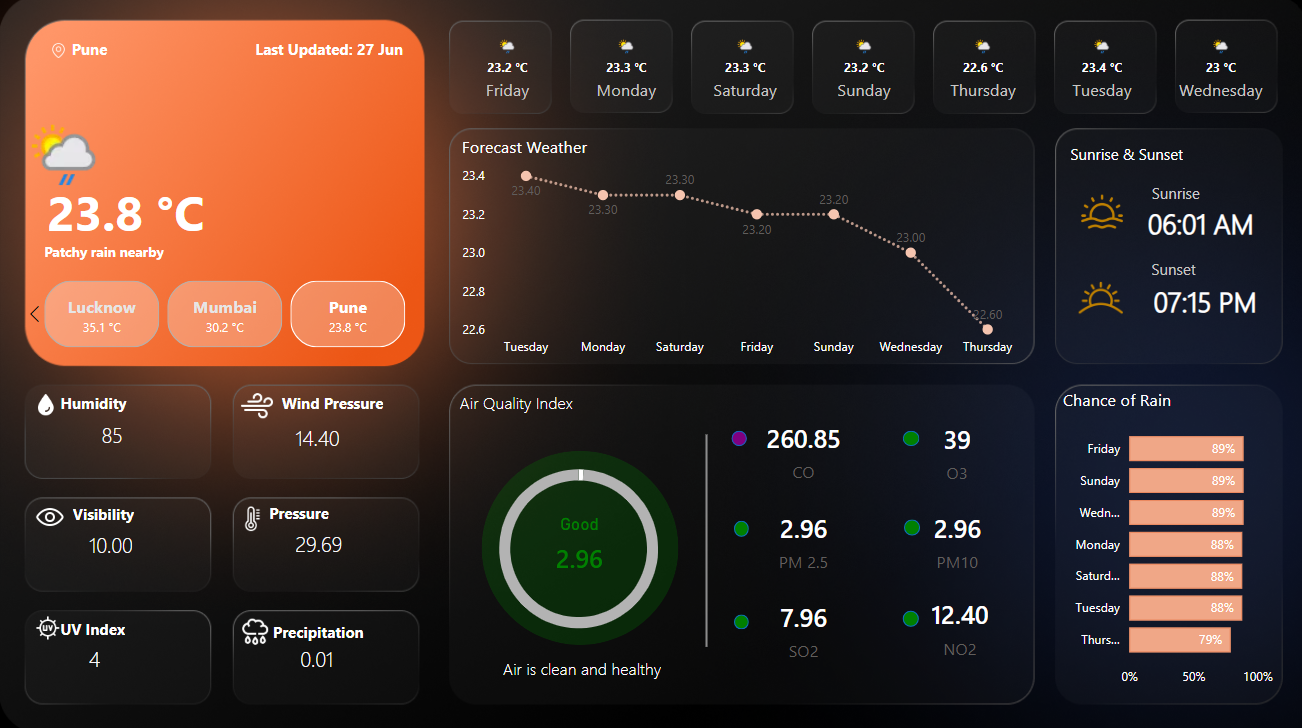

The dashboard page shown, as its layout file describes it:
{"tool":"powerbi","page":{"name":"Page 1","canvas":[1280,720],"ordinal":0},"visuals":[{"type":"shape","box":[470.4,443.1,192.2,189.5],"z":0},{"type":"advancedSlicerVisual","fields":{"Values":["Locations.location.name"]},"box":[19.2,271.7,403.4,75.5],"z":1000},{"type":"shape","box":[41,171.3,219.6,77.2],"z":2000},{"type":"shape","box":[41,229.2,219.6,37.4],"z":3000},{"type":"shape","box":[68.8,32.6,109.8,36.2],"z":4000},{"type":"shape","box":[247.3,32.6,219.6,36.2],"z":5000},{"type":"image","box":[29,39.8,57.9,24.1],"z":6000},{"type":"cardVisual","fields":{"Data":["Min(Current.current.condition.icon)"]},"box":[0,80.4,118.6,139.1],"z":7000},{"type":"image","box":[29,485,41,44.6],"z":8000},{"type":"image","box":[230.4,491,33.8,35],"z":9000},{"type":"image","box":[29,598.4,36.2,33.8],"z":10000},{"type":"image","box":[25.3,381.2,39.8,32.6],"z":11000},{"type":"image","box":[228,598.4,44.6,41],"z":12000},{"type":"image","box":[230.4,374,42.2,49.5],"z":13000},{"type":"shape","box":[57.9,377.6,219.6,36.2],"z":14000},{"type":"shape","box":[272.7,377.6,219.6,36.2],"z":15000},{"type":"shape","box":[70,486.2,85.7,35],"z":16000},{"type":"shape","box":[264.2,600.8,219.6,36.2],"z":17000},{"type":"shape","box":[57.9,598.4,219.6,36.2],"z":18000},{"type":"shape","box":[260.6,485,219.6,36.2],"z":19000},{"type":"cardVisual","fields":{"Data":["Sum(Current.current.humidity)"]},"box":[82.7,374.7,105.4,96],"z":20000},{"type":"cardVisual","fields":{"Data":["Sum(Current.current.wind_kph)"]},"box":[272.1,377.4,126.7,96],"z":21000},{"type":"cardVisual","fields":{"Data":["Sum(Current.current.vis_km)"]},"box":[70.7,496.1,101.4,66.7],"z":22000},{"type":"cardVisual","fields":{"Data":["Sum(Current.current.pressure_in)"]},"box":[272.1,489.4,126.7,80],"z":23000},{"type":"cardVisual","fields":{"Data":["Sum(Current.current.uv)"]},"box":[70.7,601.5,126.7,80],"z":24000},{"type":"cardVisual","fields":{"Data":["Sum(Current.current.precip_in)"]},"box":[277.4,601.5,126.7,80],"z":25000},{"type":"advancedSlicerVisual","fields":{"Values":["Forecast_Day.Day_Name"]},"box":[417.4,32.6,857.8,85.7],"z":26000},{"type":"lineChart","title":"Forecast Weather","fields":{"Y":["Avg(Forecast_Day.forecast.forecastday.day.avgtemp_c)"],"Category":["Forecast_Day.Day_Name"]},"box":[446.8,134.7,553.5,225.4],"z":27000},{"type":"shape","box":[1117.2,193,130.3,54.3],"z":28000},{"type":"shape","box":[1042.4,135.1,219.6,36.2],"z":29000},{"type":"shape","box":[1122,264.2,126.7,62.7],"z":30000},{"type":"shape","box":[1122,247.3,56.7,33.8],"z":31000},{"type":"shape","box":[1122,173.7,60.3,36.2],"z":32000},{"type":"image","box":[1031.5,259.4,86.9,67.6],"z":33000},{"type":"image","box":[1033.9,184.6,83.2,50.7],"z":34000},{"type":"clusteredBarChart","title":"Chance of Rain","fields":{"Category":["Forecast_Day.Day_Name"],"Y":["Avg(Forecast_Day.forecast.forecastday.day.daily_chance_of_rain)"]},"box":[1033.5,381.8,229.1,300],"z":35000},{"type":"card","fields":{"Values":["Sum(Current.current.air_quality.o3)"]},"box":[846.7,388.6,177.2,109.1],"z":36000},{"type":"card","fields":{"Values":["Sum(Current.current.air_quality.co)"]},"box":[695.8,388.6,177.7,107.9],"z":37000},{"type":"card","fields":{"Values":["Sum(Current.current.air_quality.pm2_5)"]},"box":[695.8,476.6,177.7,107.9],"z":38000},{"type":"card","fields":{"Values":["Sum(Current.current.air_quality.pm10)"]},"box":[846.9,476.6,177.7,107.9],"z":39000},{"type":"card","fields":{"Values":["Sum(Current.current.air_quality.no2)"]},"box":[848.6,561.3,177.7,107.9],"z":40000},{"type":"card","fields":{"Values":["Sum(Current.current.air_quality.so2)"]},"box":[695.8,562.9,177.7,107.9],"z":41000},{"type":"shape","box":[446.7,375.3,192.6,39.9],"z":42000},{"type":"shape","box":[714.1,423.5,15,15],"z":43000},{"type":"shape","box":[883.1,510.3,15.7,15.7],"z":44000},{"type":"shape","box":[882.2,422.7,16.4,15],"z":45000},{"type":"shape","box":[716.6,602,14.5,14.5],"z":46000},{"type":"shape","box":[716.6,511.5,14.5,15.7],"z":47000},{"type":"shape","box":[881.9,598.4,15.7,15.7],"z":48000},{"type":"shape","box":[643.5,426.8,92.7,207.2],"z":49000},{"type":"donutChart","fields":{"Y":["Sum(Current.current.air_quality.pm10)","_Measures.Left Value PM10"]},"box":[437.9,436.7,255.8,203.9],"z":50000},{"type":"card","fields":{"Values":["Sum(Current.current.air_quality.pm10)"]},"box":[492.2,503.1,147.3,76.4],"z":51000},{"type":"shape","box":[443.1,635.4,252.2,39.5],"z":51001}]}

Visuals, with their boxes in screenshot pixels (x1, y1, x2, y2), scaled from the page's 1280x720 canvas onto the 1302x728 screenshot:
shape: (left=478, top=448, right=674, bottom=640)
advancedSlicerVisual - Locations.location.name: (left=20, top=275, right=430, bottom=351)
shape: (left=42, top=173, right=265, bottom=251)
shape: (left=42, top=232, right=265, bottom=270)
shape: (left=70, top=33, right=182, bottom=70)
shape: (left=252, top=33, right=475, bottom=70)
image: (left=29, top=40, right=88, bottom=65)
cardVisual - Min(Current.current.condition.icon): (left=0, top=81, right=121, bottom=222)
image: (left=29, top=490, right=71, bottom=535)
image: (left=234, top=496, right=269, bottom=532)
image: (left=29, top=605, right=66, bottom=639)
image: (left=26, top=385, right=66, bottom=418)
image: (left=232, top=605, right=277, bottom=647)
image: (left=234, top=378, right=277, bottom=428)
shape: (left=59, top=382, right=282, bottom=418)
shape: (left=277, top=382, right=501, bottom=418)
shape: (left=71, top=492, right=158, bottom=527)
shape: (left=269, top=607, right=492, bottom=644)
shape: (left=59, top=605, right=282, bottom=642)
shape: (left=265, top=490, right=488, bottom=527)
cardVisual - Sum(Current.current.humidity): (left=84, top=379, right=191, bottom=476)
cardVisual - Sum(Current.current.wind_kph): (left=277, top=382, right=406, bottom=479)
cardVisual - Sum(Current.current.vis_km): (left=72, top=502, right=175, bottom=569)
cardVisual - Sum(Current.current.pressure_in): (left=277, top=495, right=406, bottom=576)
cardVisual - Sum(Current.current.uv): (left=72, top=608, right=201, bottom=689)
cardVisual - Sum(Current.current.precip_in): (left=282, top=608, right=411, bottom=689)
advancedSlicerVisual - Forecast_Day.Day_Name: (left=425, top=33, right=1297, bottom=120)
"Forecast Weather" lineChart: (left=454, top=136, right=1017, bottom=364)
shape: (left=1136, top=195, right=1269, bottom=250)
shape: (left=1060, top=137, right=1284, bottom=173)
shape: (left=1141, top=267, right=1270, bottom=331)
shape: (left=1141, top=250, right=1199, bottom=284)
shape: (left=1141, top=176, right=1203, bottom=212)
image: (left=1049, top=262, right=1138, bottom=331)
image: (left=1052, top=187, right=1136, bottom=238)
"Chance of Rain" clusteredBarChart: (left=1051, top=386, right=1284, bottom=689)
card - Sum(Current.current.air_quality.o3): (left=861, top=393, right=1041, bottom=503)
card - Sum(Current.current.air_quality.co): (left=708, top=393, right=889, bottom=502)
card - Sum(Current.current.air_quality.pm2_5): (left=708, top=482, right=889, bottom=591)
card - Sum(Current.current.air_quality.pm10): (left=861, top=482, right=1042, bottom=591)
card - Sum(Current.current.air_quality.no2): (left=863, top=568, right=1044, bottom=677)
card - Sum(Current.current.air_quality.so2): (left=708, top=569, right=889, bottom=678)
shape: (left=454, top=379, right=650, bottom=420)
shape: (left=726, top=428, right=742, bottom=443)
shape: (left=898, top=516, right=914, bottom=532)
shape: (left=897, top=427, right=914, bottom=443)
shape: (left=729, top=609, right=744, bottom=623)
shape: (left=729, top=517, right=744, bottom=533)
shape: (left=897, top=605, right=913, bottom=621)
shape: (left=655, top=432, right=749, bottom=641)
donutChart - Sum(Current.current.air_quality.pm10) x _Measures.Left Value PM10: (left=445, top=442, right=706, bottom=648)
card - Sum(Current.current.air_quality.pm10): (left=501, top=509, right=650, bottom=586)
shape: (left=451, top=642, right=707, bottom=682)
